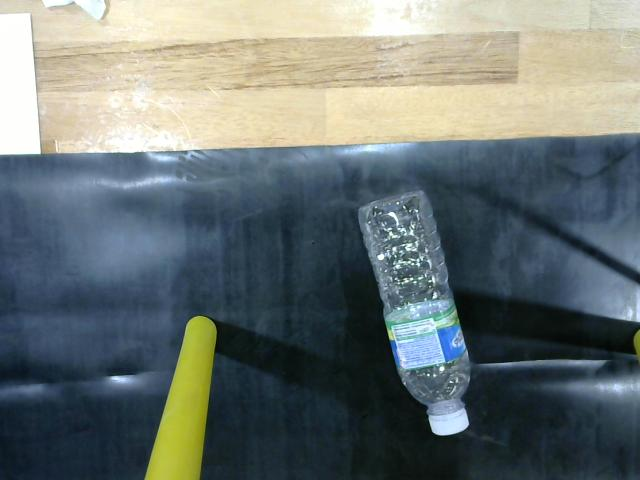bottle: (345, 176, 479, 439)
